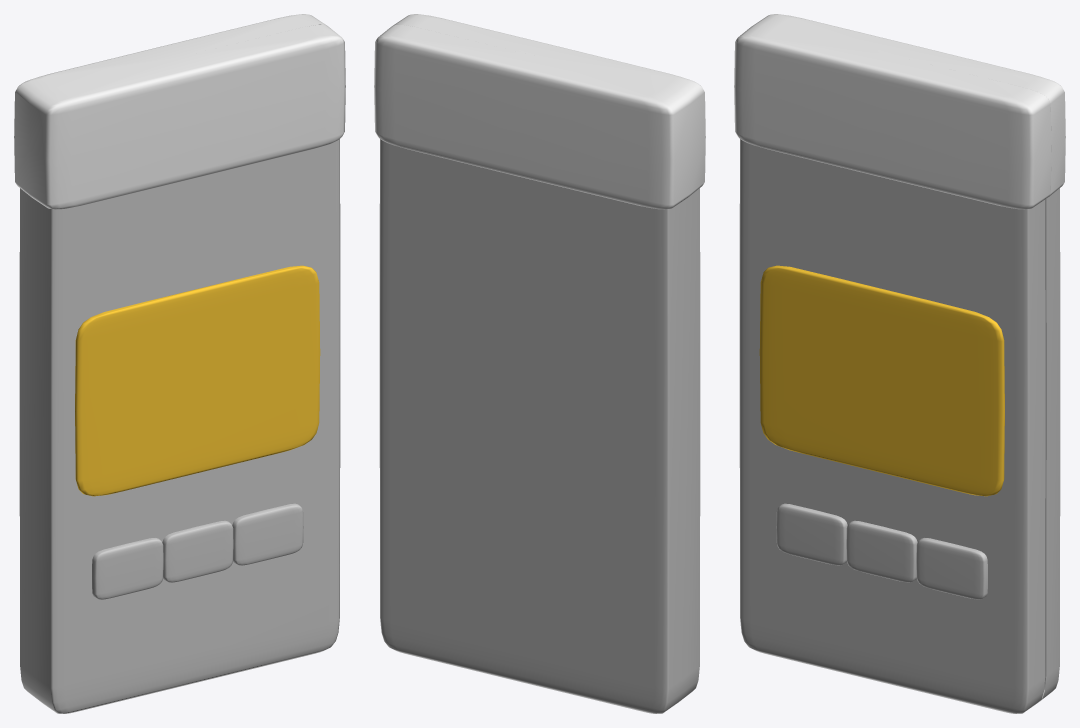
Rendered from sweet_chocolate.fbx.
3 views of the same model, side by side, from view 1: azimuth 30°, elevation 25°; view 2: azimuth 150°, elevation 25°; view 3: azimuth 330°, elevation 25° (orthographic).
Parts seen in each view (by area): view 1: sweet_chocolate; view 2: sweet_chocolate; view 3: sweet_chocolate.
Boxes of the visible parts, <box> form: sweet_chocolate: <box>14,14,345,713</box>; sweet_chocolate: <box>374,14,705,713</box>; sweet_chocolate: <box>734,14,1065,713</box>.
Size of the model in its own units: 0.52 by 1.01 by 0.115.
